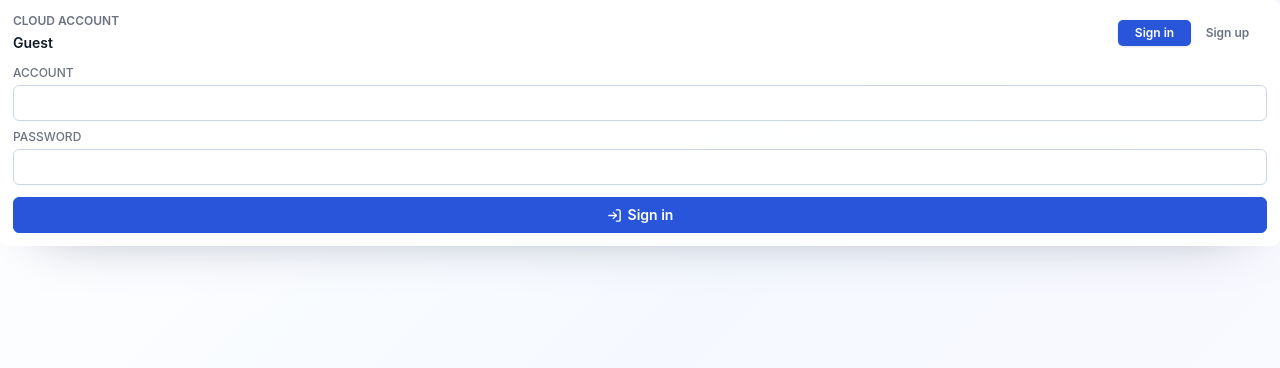
AuthPanel › rejects invalid sign-in credentials before submit
Type "bad" into the field labelled "Account".
click(640, 103); type("bad")  # box [13, 85, 1267, 121]
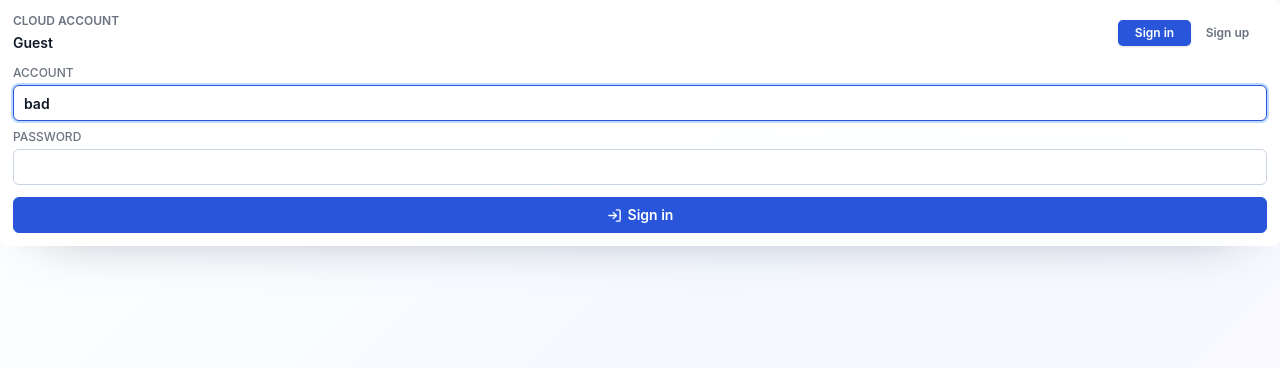
Type "short1" into the password field labelled "Password".
click(640, 167); type("short1")  # box [13, 149, 1267, 185]
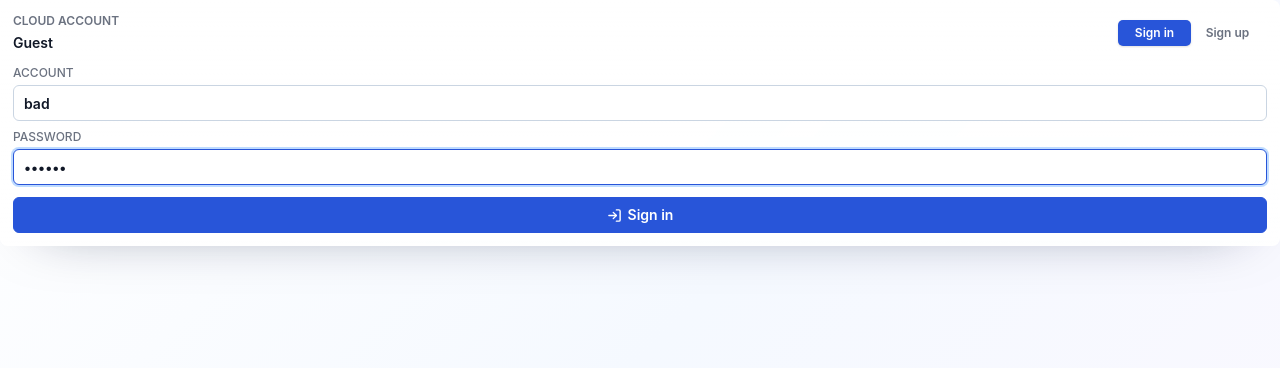
Click the button "Sign in" below "Password".
click(640, 215)  # box [13, 197, 1267, 233]
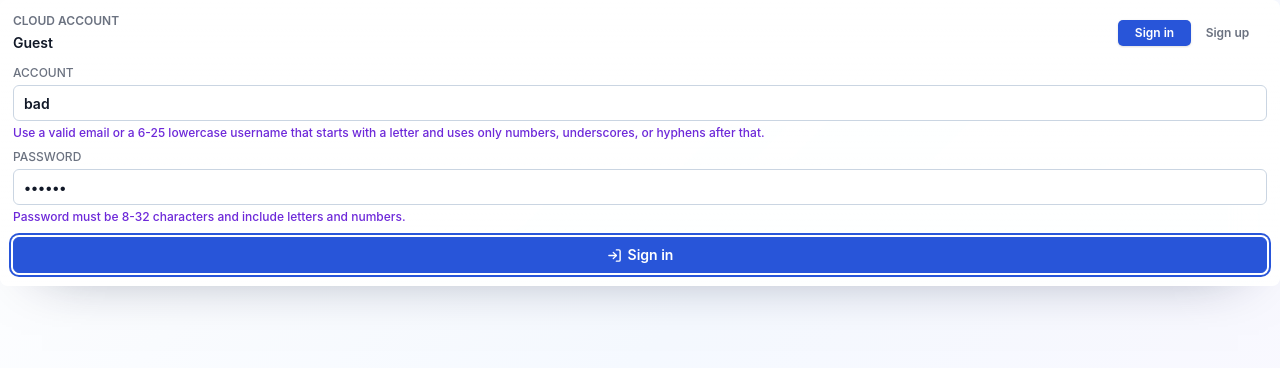
Now the text "Use a valid email or a 6-25 lowercase username that starts with a letter and uses only numbers, underscores, or hyphens " is shown, box [13, 125, 765, 140]
Now the text "Password must be 8-32 characters and include letters and numbers." is shown, box [13, 209, 406, 224]
